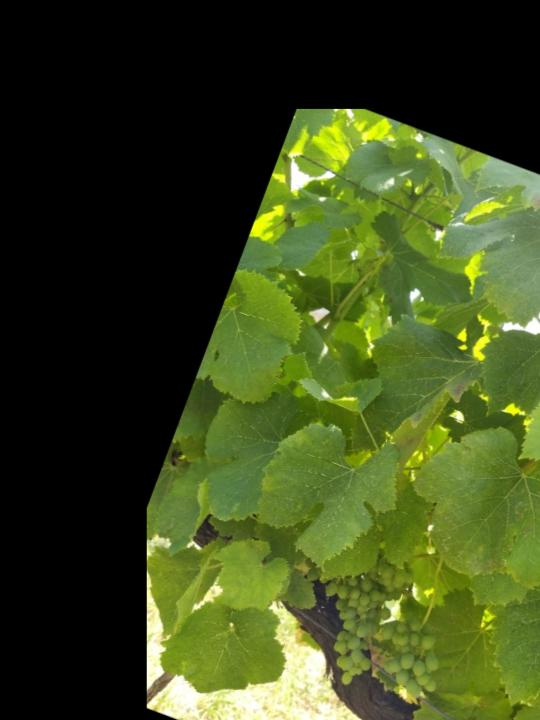grape: (289, 537, 478, 719)
